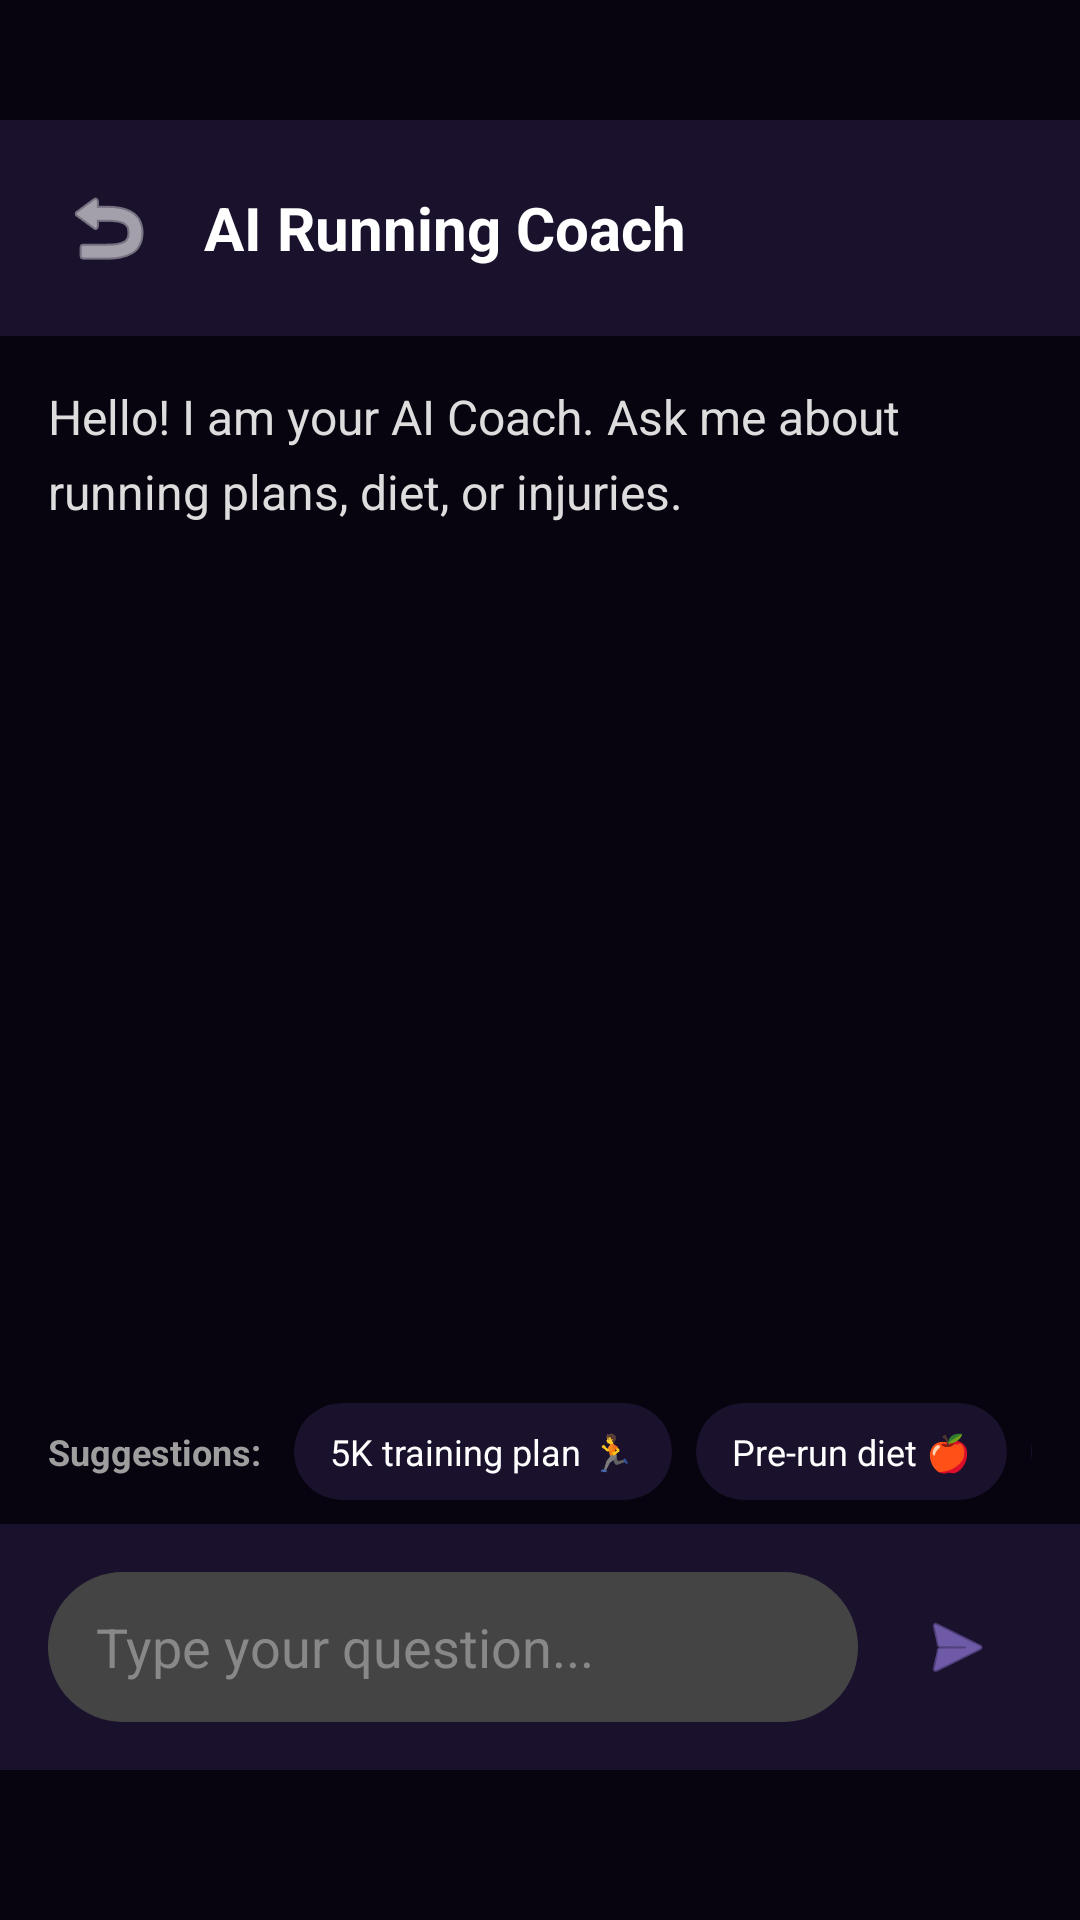

Where to tap for icons on this 1080px x 1920px app screen, as [x,y]:
revert: [109,228]
send: [958,1647]
